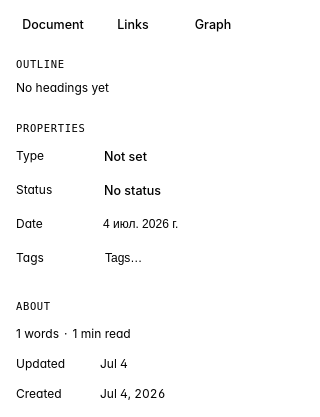
Test: WorkspaceRightPanel › shows an embedded local graph in the Graph tab
This screenshot has width=320, height=417.
Step 1. Click the tab with id "right-panel-tab-graph" → (213, 24), box [174,10,252,38]
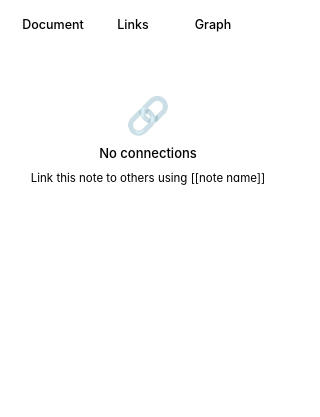
Now the element with class "right-panel__graph-canvas" is shown, box [31,93,265,185]
